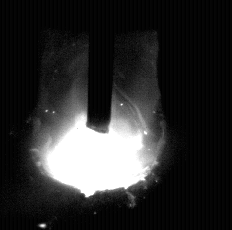arame: (88, 0, 112, 133)
poca: (32, 0, 166, 230)
